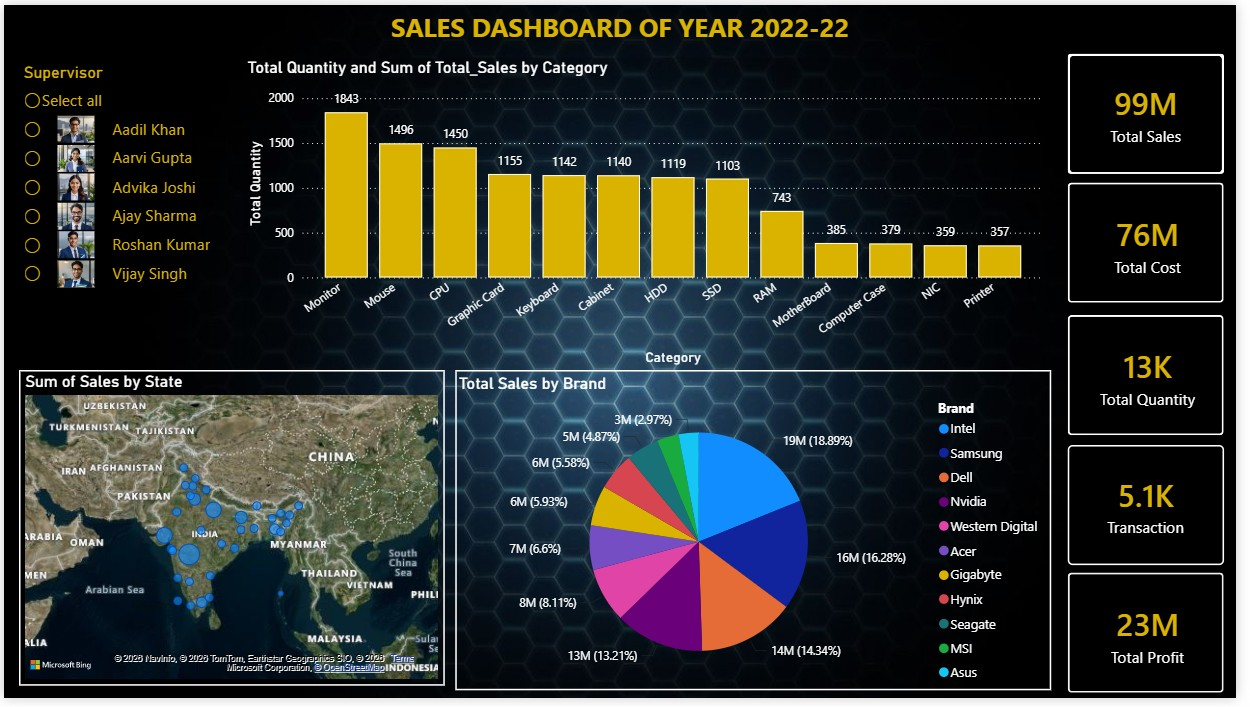

What the dashboard file says about the page in this screenshot:
{"tool":"powerbi","page":{"name":"Page 1","canvas":[1280,720],"ordinal":0},"visuals":[{"type":"textbox","box":[0,0,1280,50.7],"z":0},{"type":"cardVisual","fields":{"Data":["Sum(Sales_Data.Total_Sales)"]},"box":[1105,51.2,162.5,125],"z":1000},{"type":"cardVisual","fields":{"Data":["Sum(Sales_Data.Total_Cost)"]},"box":[1105,185,162.5,125],"z":2000},{"type":"cardVisual","fields":{"Data":["Sum(Sales_Data.Quantity)"]},"box":[1105,322.5,162.5,125],"z":3000},{"type":"cardVisual","fields":{"Data":["CountNonNull(Sales_Data.Order_Number)"]},"box":[1105.1,457.2,162.9,125.5],"z":4000},{"type":"cardVisual","fields":{"Data":["Sales_Data.Total Profit"]},"box":[1105.8,589.7,162.2,125],"z":5000},{"type":"clusteredColumnChart","fields":{"Y":["Sum(Sales_Data.Quantity)"],"Category":["Sales_Data.Category"]},"box":[248.5,54.3,837.3,324.5],"z":6000},{"type":"pieChart","fields":{"Y":["Sum(Sales_Data.Total_Sales)"],"Category":["Sales_Data.Brand"]},"box":[469.3,378.8,618.9,333],"z":7000},{"type":"map","fields":{"Category":["State_list.State"],"Size":["Sum(Sales_Data.Sales)"]},"box":[15.7,378.8,442.8,328.2],"z":8000},{"type":"listSlicer","fields":{"Values":["Supervisor.Supervisor"]},"box":[15.7,55.5,224.4,266.6],"z":9000}]}

Visuals, with their boxes in screenshot pixels (x1, y1, x2, y2), scaled from the page's 1280x720 canvas onto the 1250x707 screenshot:
textbox: (0,0,1249,50)
cardVisual - Sum(Sales_Data.Total_Sales): (1079,50,1238,173)
cardVisual - Sum(Sales_Data.Total_Cost): (1079,182,1238,304)
cardVisual - Sum(Sales_Data.Quantity): (1079,317,1238,439)
cardVisual - CountNonNull(Sales_Data.Order_Number): (1079,449,1238,572)
cardVisual - Sales_Data.Total Profit: (1080,579,1238,702)
clusteredColumnChart - Sum(Sales_Data.Quantity) x Sales_Data.Category: (243,53,1060,372)
pieChart - Sum(Sales_Data.Total_Sales) x Sales_Data.Brand: (458,372,1063,699)
map - State_list.State x Sum(Sales_Data.Sales): (15,372,448,694)
listSlicer - Supervisor.Supervisor: (15,54,234,316)
